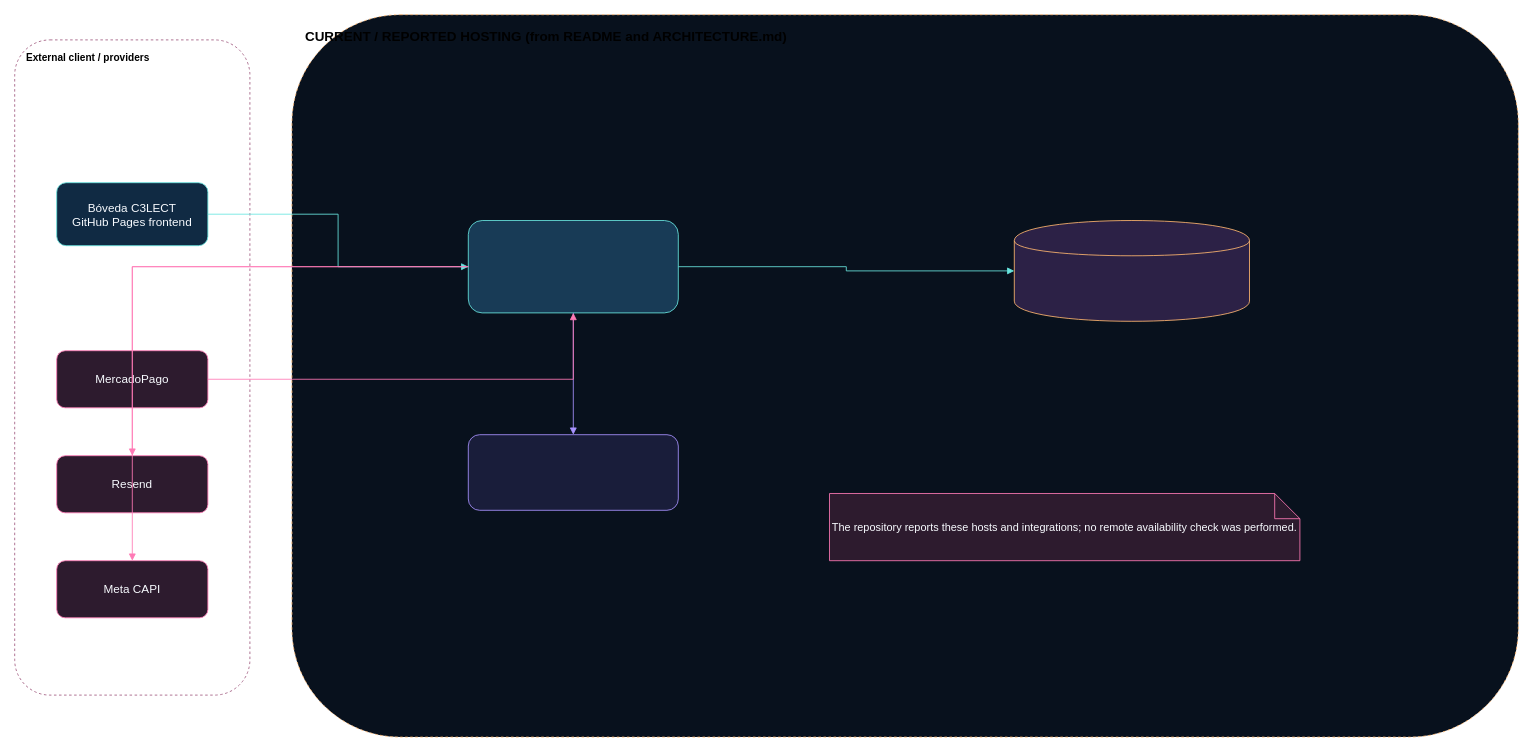
The diagram is 1533 pixels wide and 752 high, and some of its shapes have lost their labels. The centre of each missing label's shape, as x and y in pixels:
Render C3LECT API reported public host: the point at 572,266
Supabase / PostgreSQL private tables + public views: the point at 1131,270
Swagger / OpenAPI /api/docs: the point at 572,472
